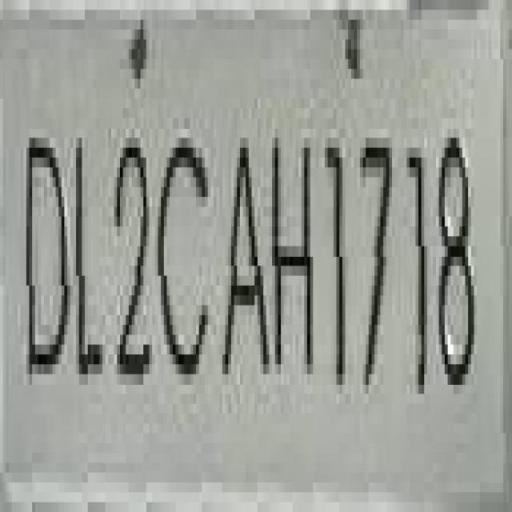number plate: (0, 9, 482, 492)
